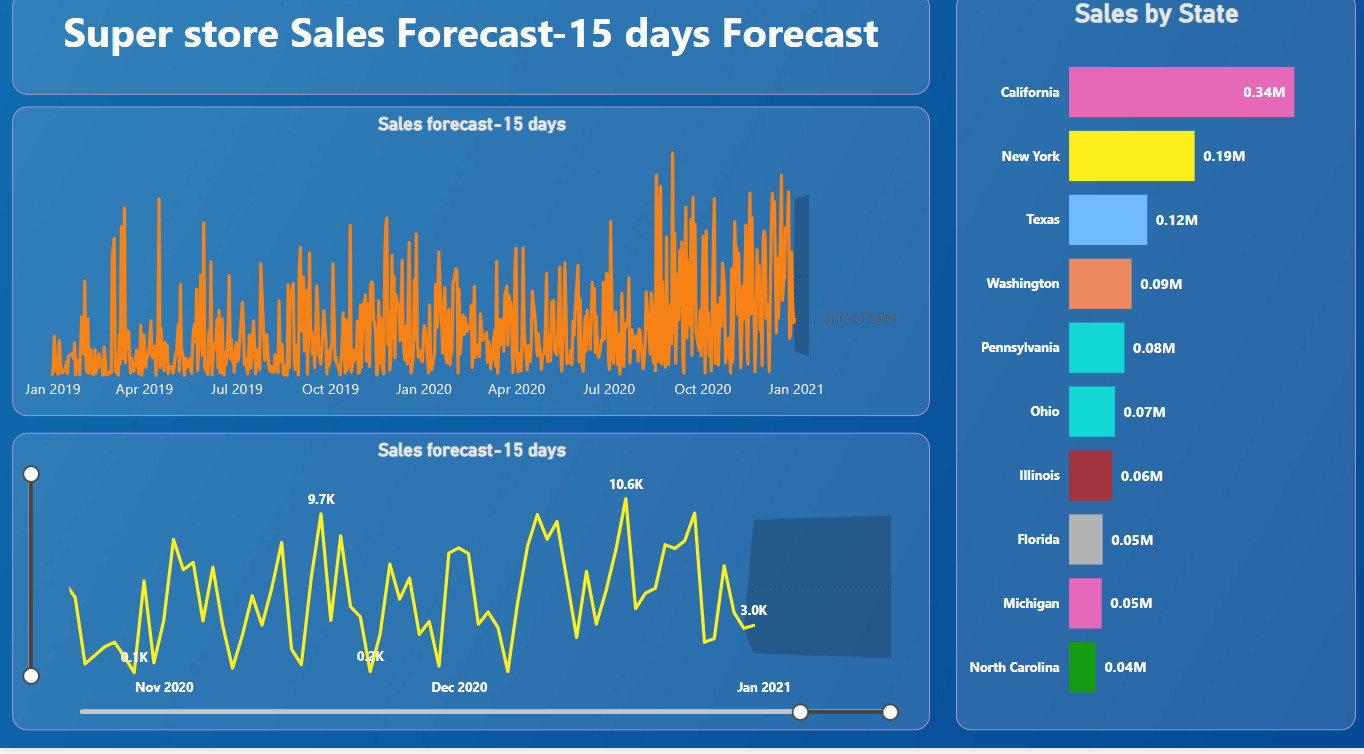

The dashboard page shown, as its layout file describes it:
{"tool":"powerbi","page":{"name":"sales forecast","canvas":[1280,720],"ordinal":1},"visuals":[{"type":"lineChart","title":"Sales forecast-15 days","fields":{"Y":["Sum(SuperStore_Sales_Dataset.Sales)"],"Category":["SuperStore_Sales_Dataset.Order Date"]},"box":[15.1,123.5,853.5,288.2],"z":0},{"type":"lineChart","title":"Sales forecast-15 days","fields":{"Y":["Sum(SuperStore_Sales_Dataset.Sales)"],"Category":["SuperStore_Sales_Dataset.Order Date"]},"box":[15.1,426.8,853.5,277.2],"z":1000},{"type":"textbox","box":[15.1,16.5,853.5,96.1],"z":2000},{"type":"clusteredBarChart","title":" Sales by State","fields":{"Y":["Sum(SuperStore_Sales_Dataset.Sales)"],"Category":["SuperStore_Sales_Dataset.State"]},"box":[893.3,16.5,371.9,687.5],"z":3000}]}

Visuals, with their boxes in screenshot pixels (x1, y1, x2, y2), scaled from the page's 1280x720 canvas onto the 1364x754 screenshot:
"Sales forecast-15 days" lineChart: pyautogui.locateOnScreen(16, 129, 926, 431)
"Sales forecast-15 days" lineChart: pyautogui.locateOnScreen(16, 447, 926, 737)
textbox: pyautogui.locateOnScreen(16, 17, 926, 118)
" Sales by State" clusteredBarChart: pyautogui.locateOnScreen(952, 17, 1348, 737)
